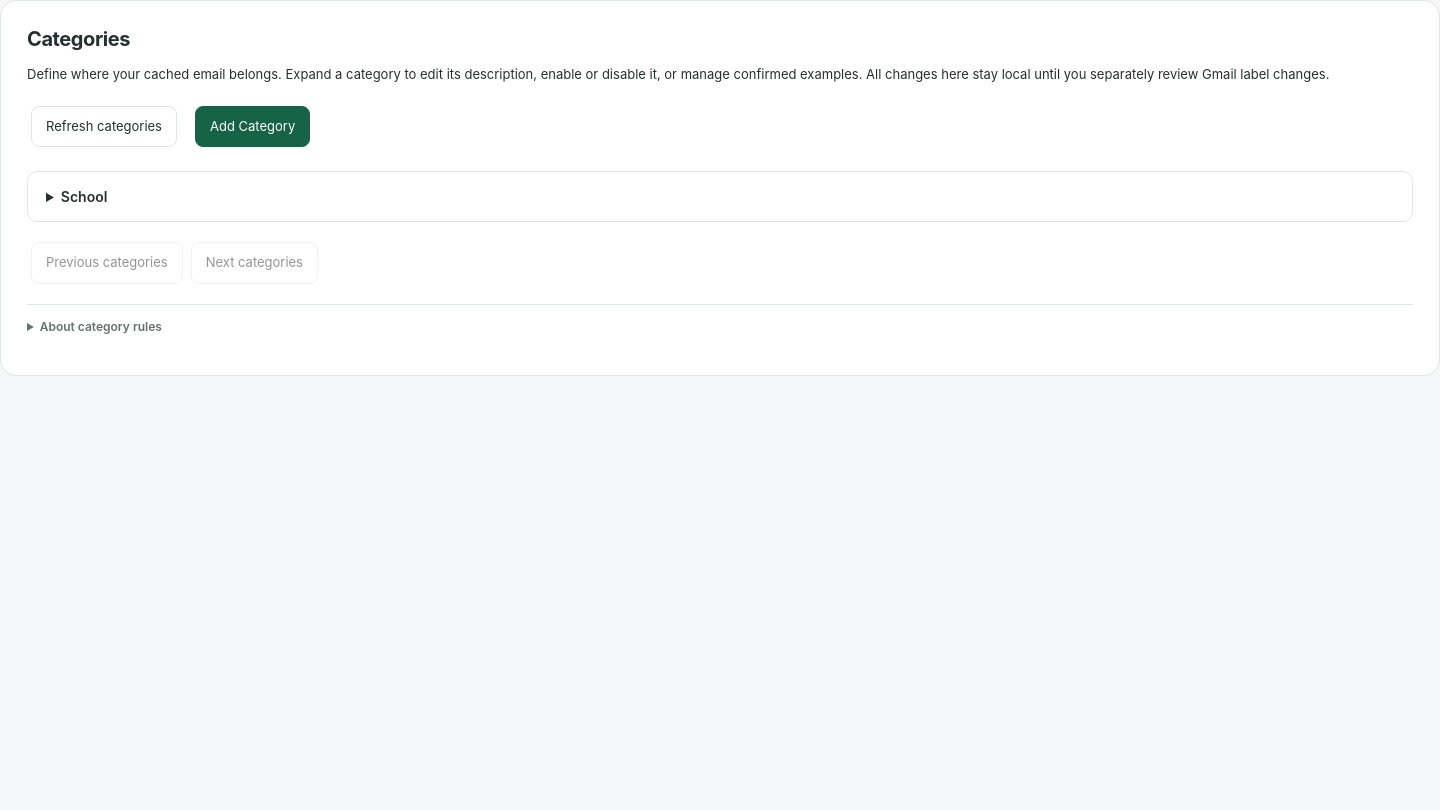
Test case: confirms deletion and explains reference conflicts without hiding the category
Click the heading "School".
click(84, 197)  # box [61,188,107,205]
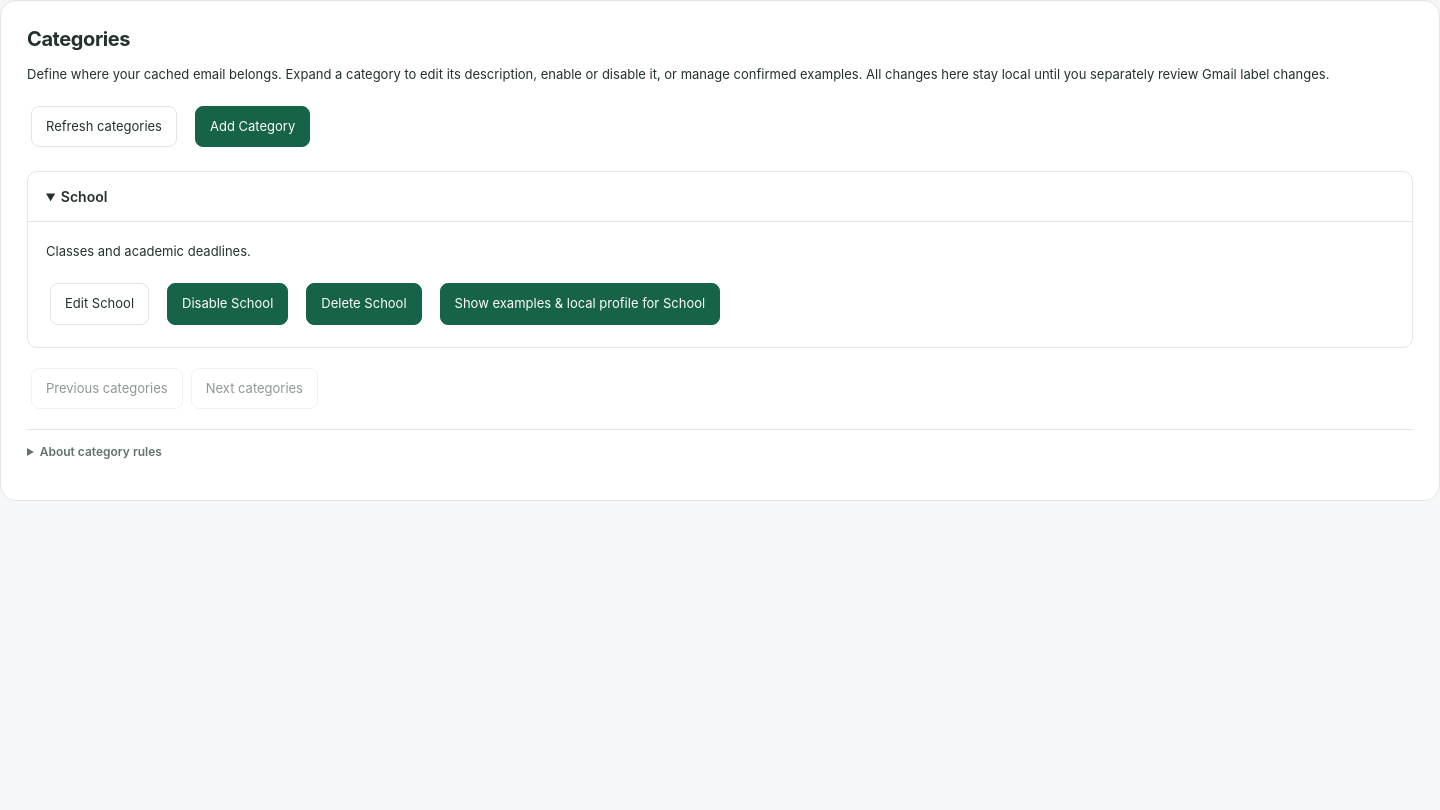
Click the button "Delete School".
click(364, 304)  # box [306,283,422,324]
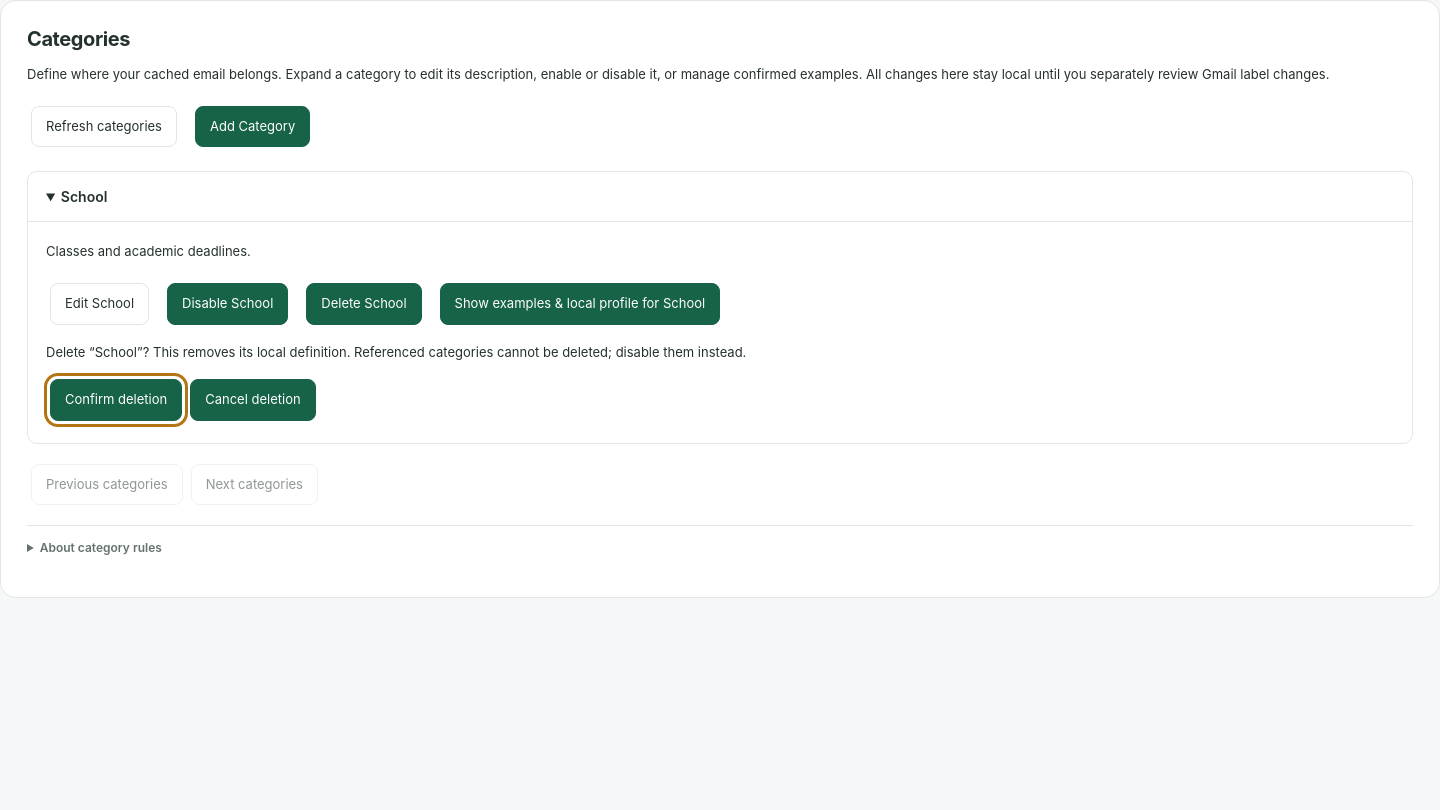
Click the button "Confirm deletion".
click(116, 400)  # box [50,379,182,421]
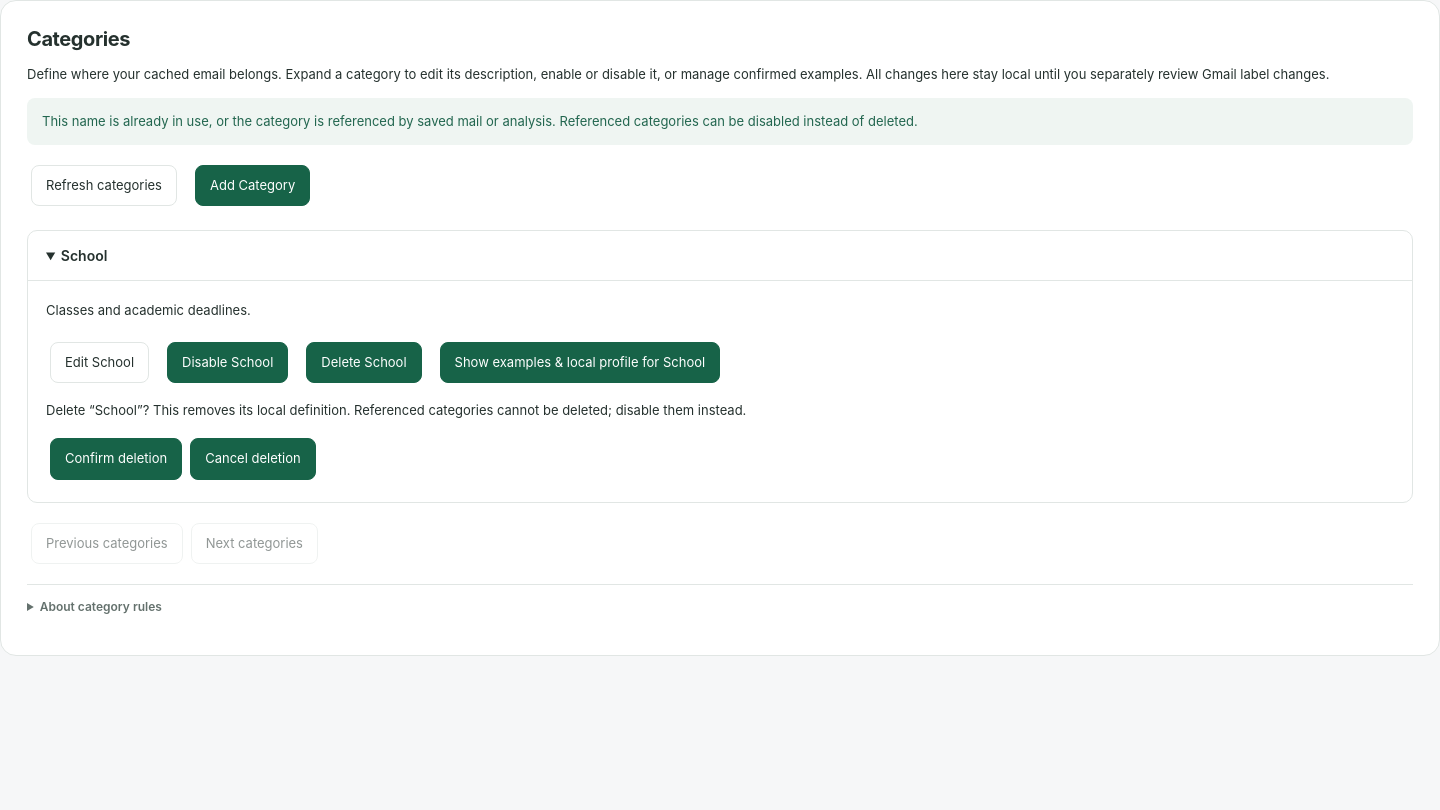
Now the button "Disable School" is enabled, box [167,342,288,383]
Now the text "This name is already in use" is shown, box [42,113,918,129]
